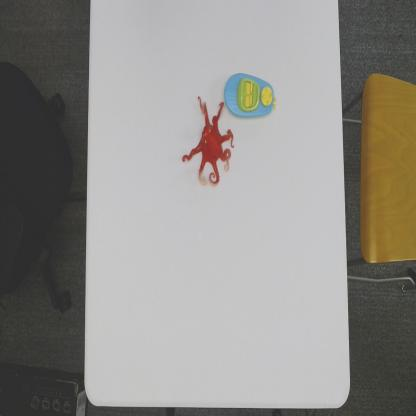Boat: (223, 70, 277, 118)
Octopus: (180, 93, 234, 192)
